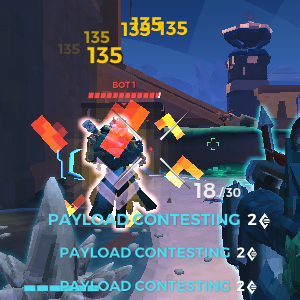model: (76, 110, 155, 230)
